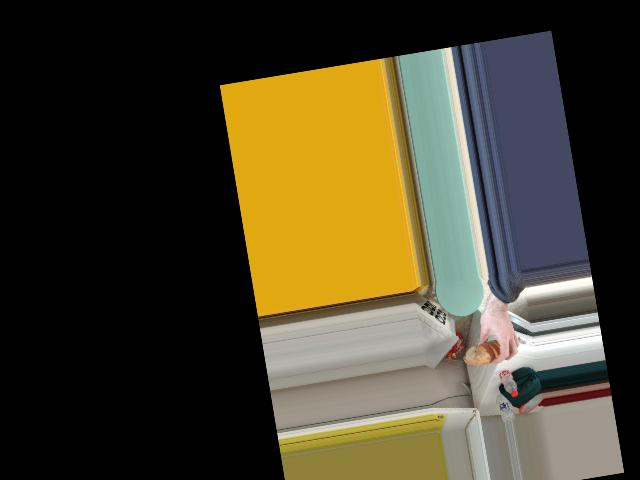sweet_potato: (471, 327, 511, 362)
